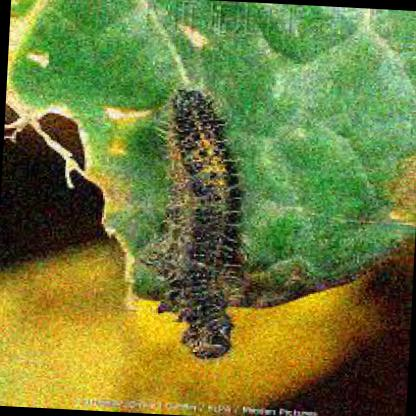pieris: (159, 86, 248, 354)
